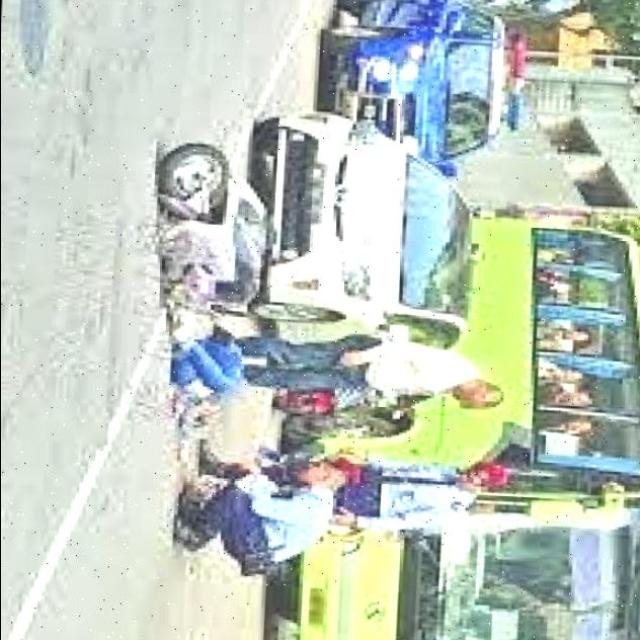accident: (111, 121, 325, 339)
